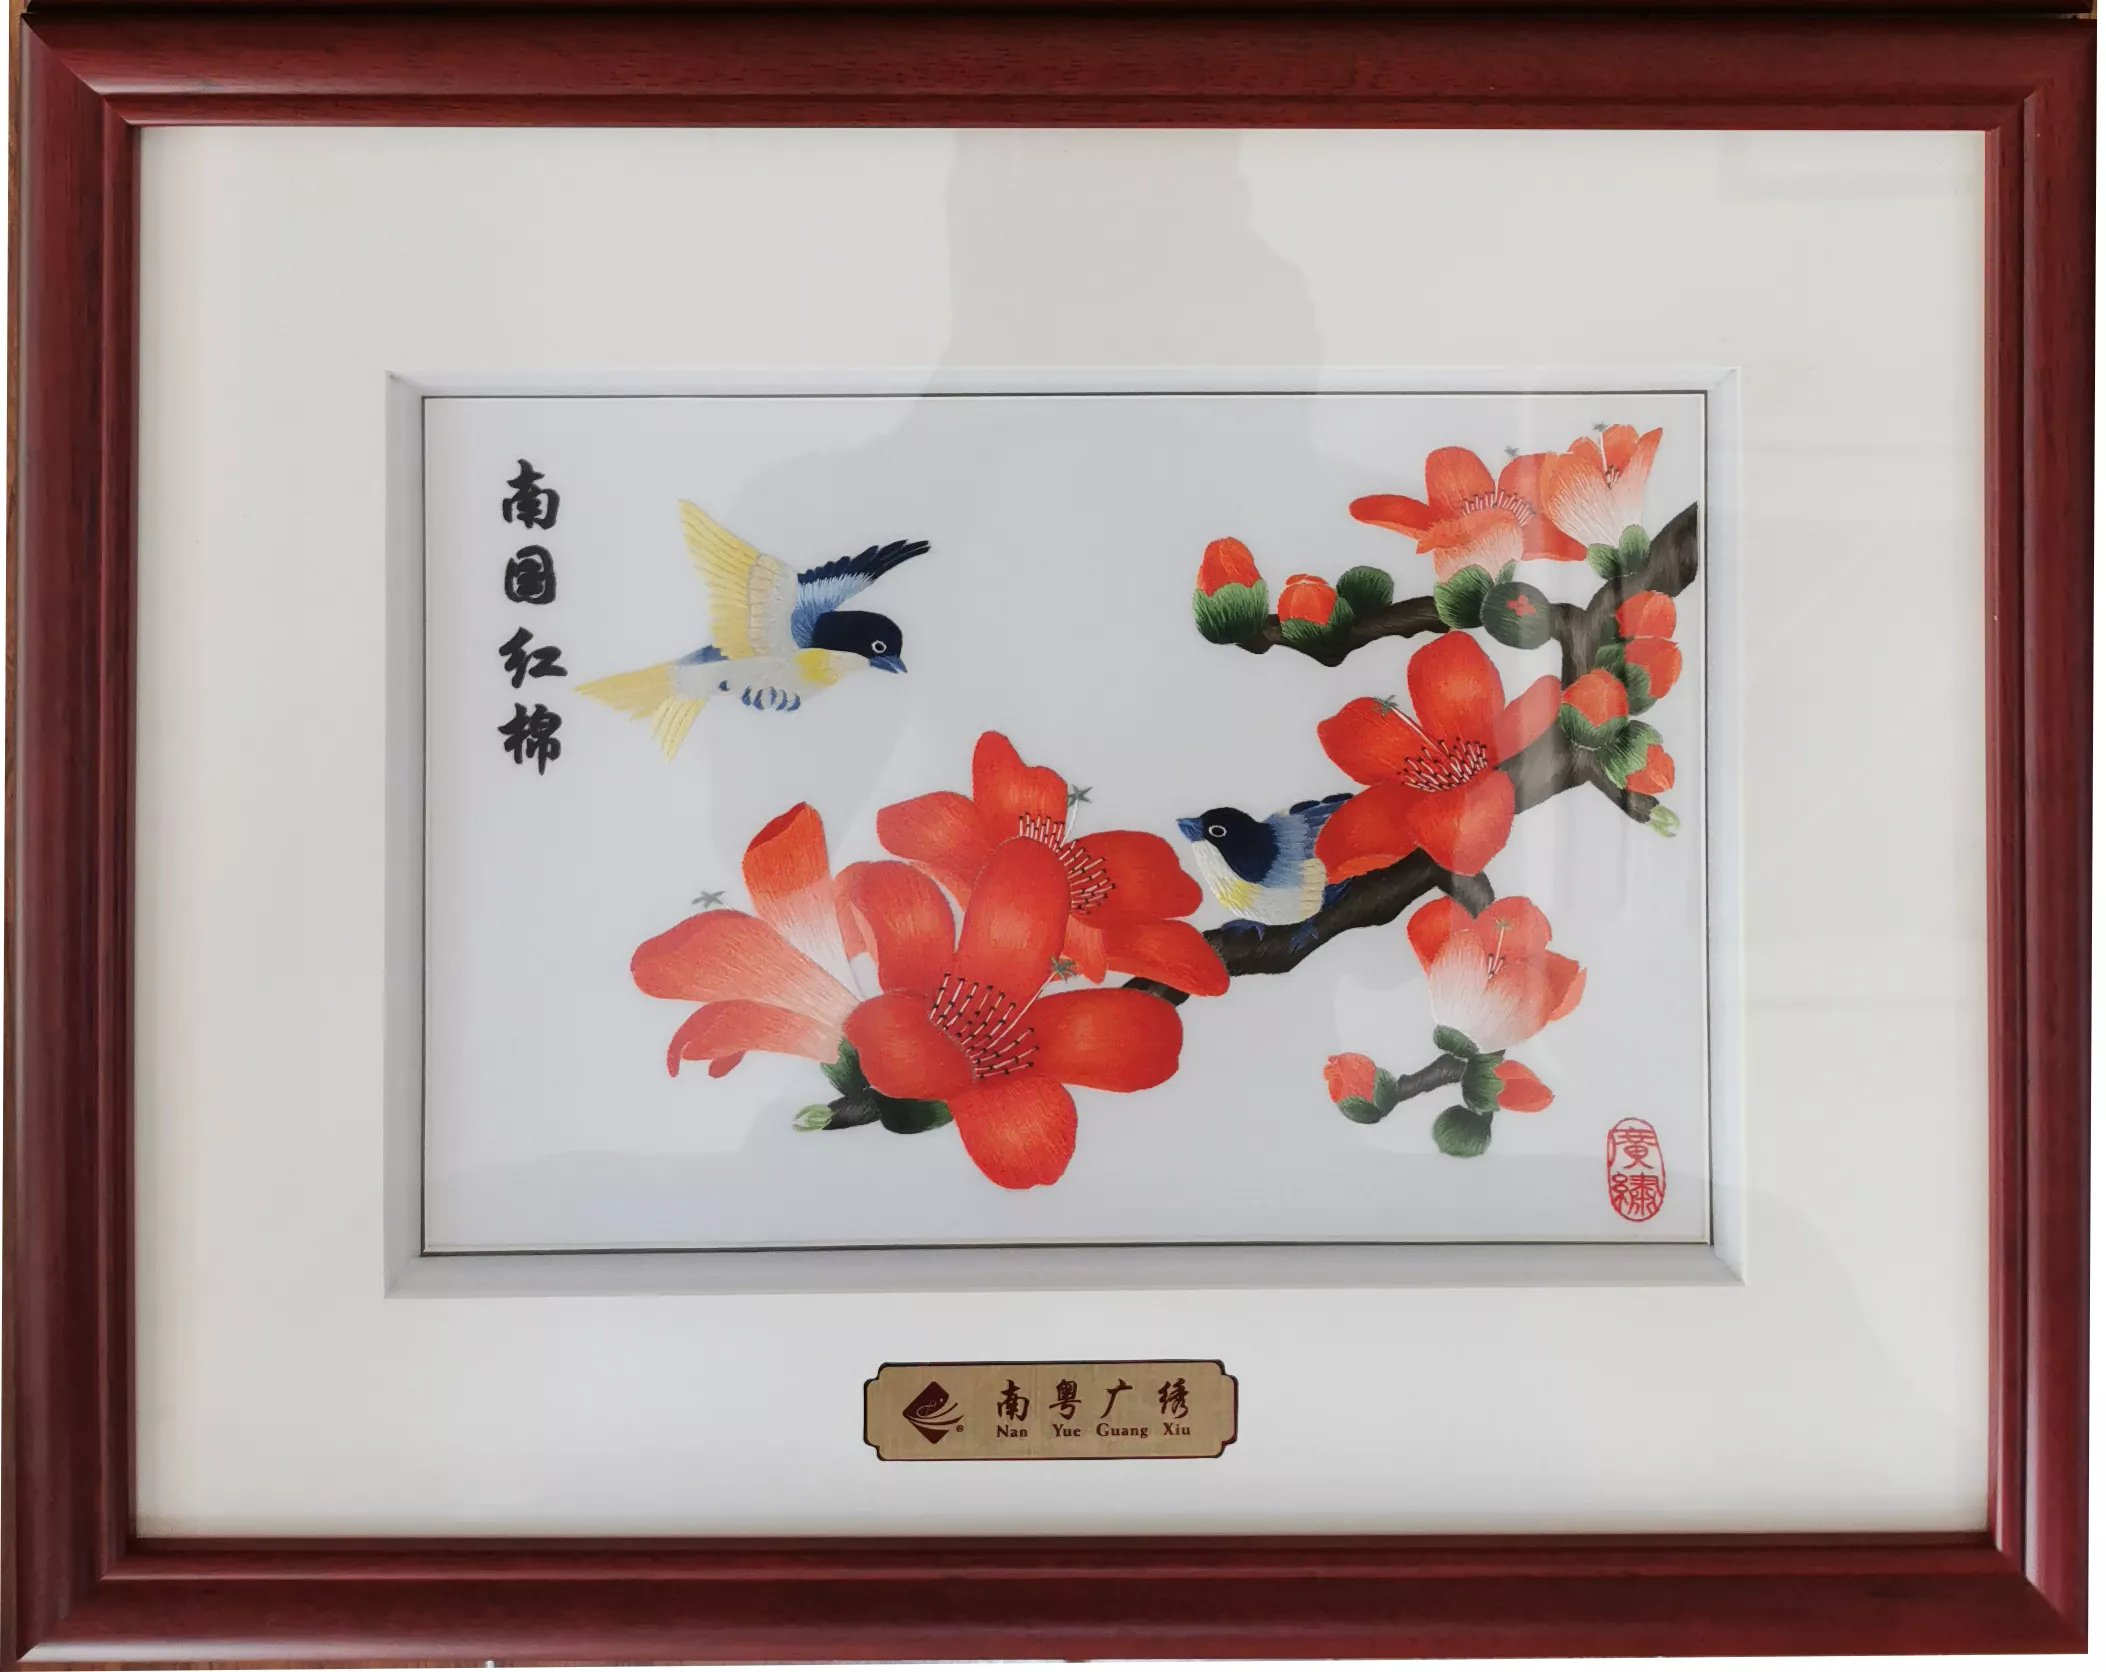bird: (557, 491, 933, 761), (1179, 793, 1338, 928)
kapok: (827, 839, 1183, 1190), (877, 733, 1236, 997), (629, 804, 877, 1098), (1315, 633, 1564, 874), (1350, 446, 1588, 597), (1402, 887, 1590, 1038), (1540, 422, 1667, 578), (1191, 535, 1267, 643), (1559, 667, 1634, 751), (1275, 569, 1352, 645), (1602, 721, 1679, 792), (1622, 636, 1684, 699), (1614, 590, 1679, 643)
